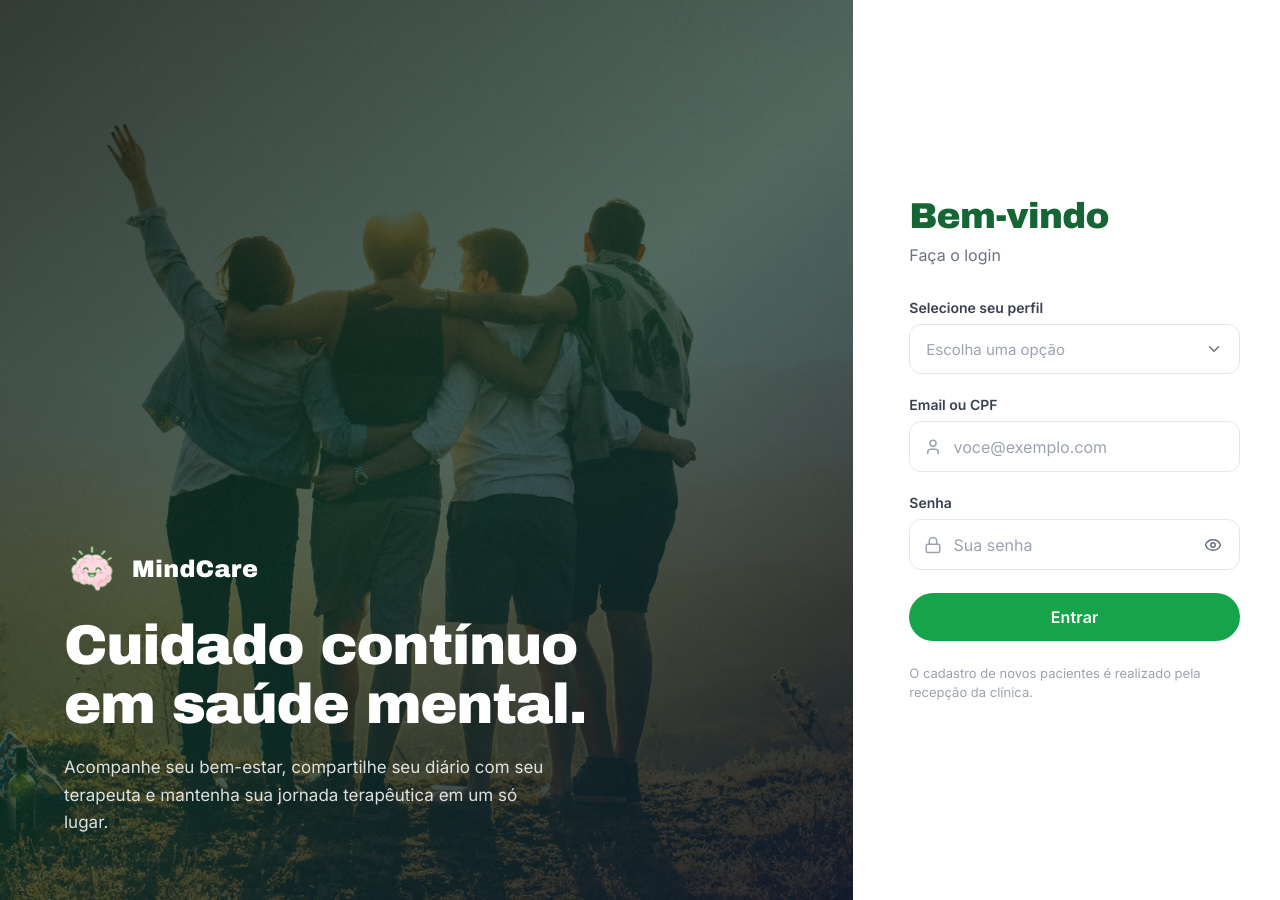
Test: Tela de Login › informa credenciais invalidas
Step 1. Click the button "Escolha uma opção" → (996,349), box [909, 324, 1240, 374]
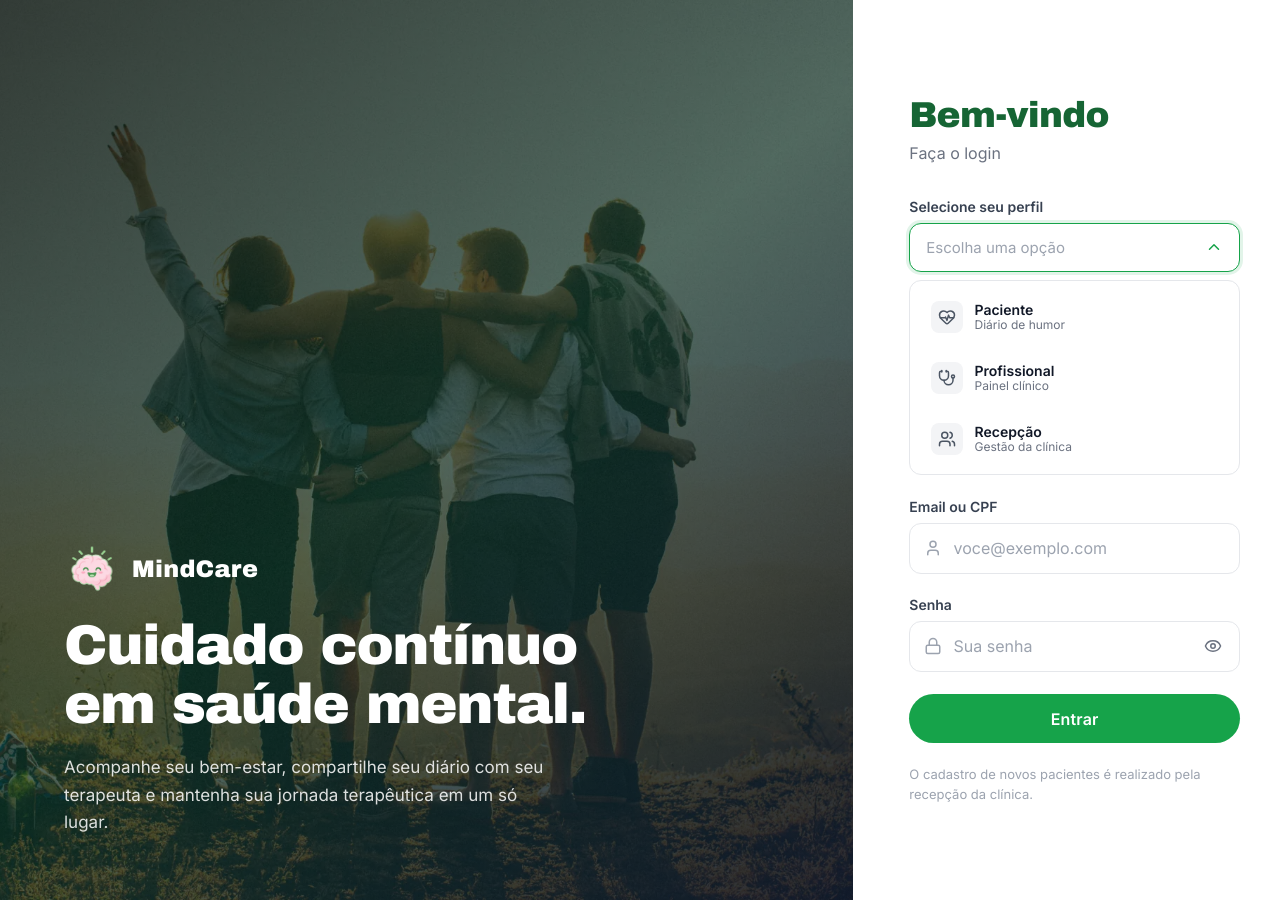
Step 2. Click the option "Paciente Diário de humor" → (947,317), box [918, 289, 1231, 344]
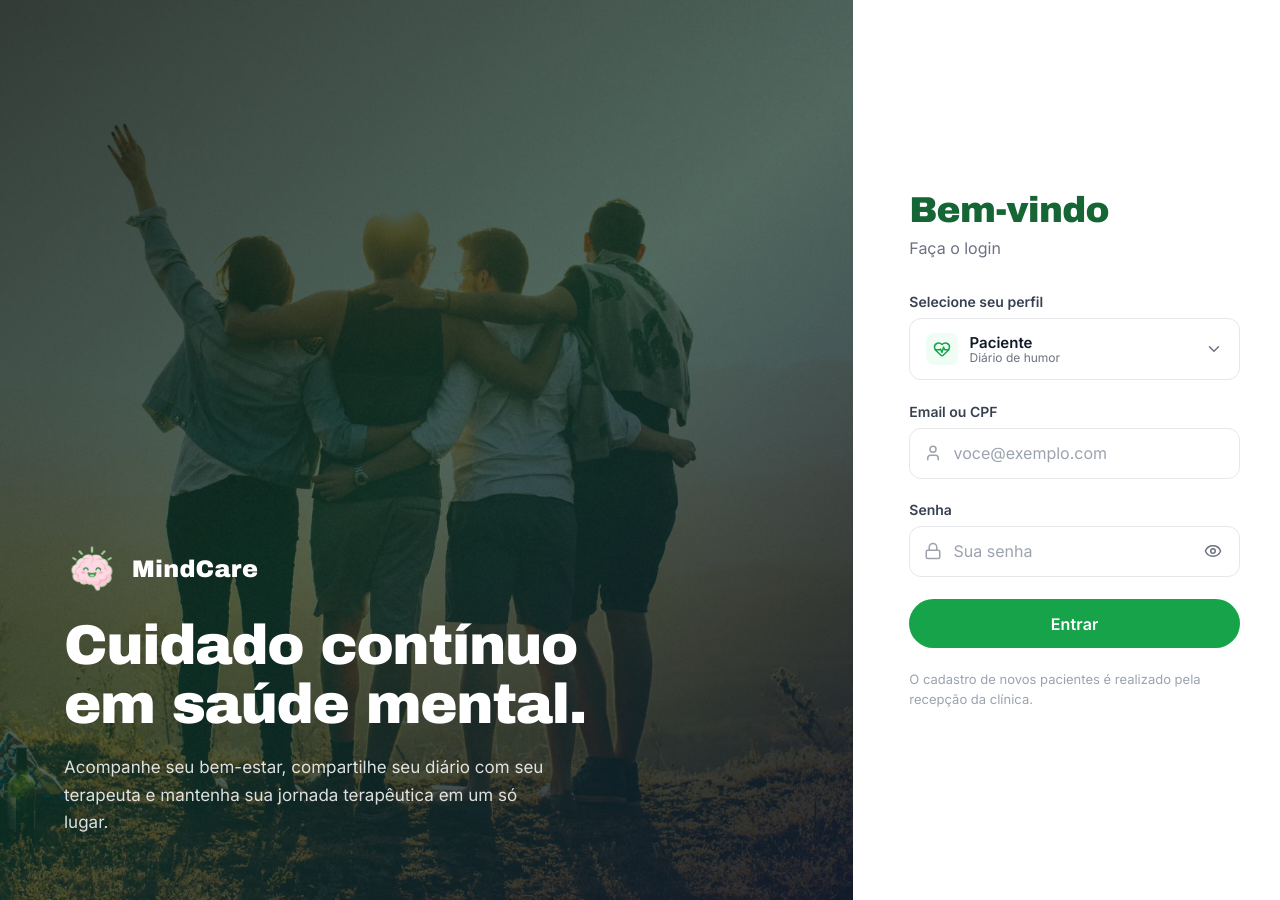
Step 3. Type "usuario@teste.com" into the field labelled "Email ou CPF" → (1075,453), box [909, 428, 1240, 479]
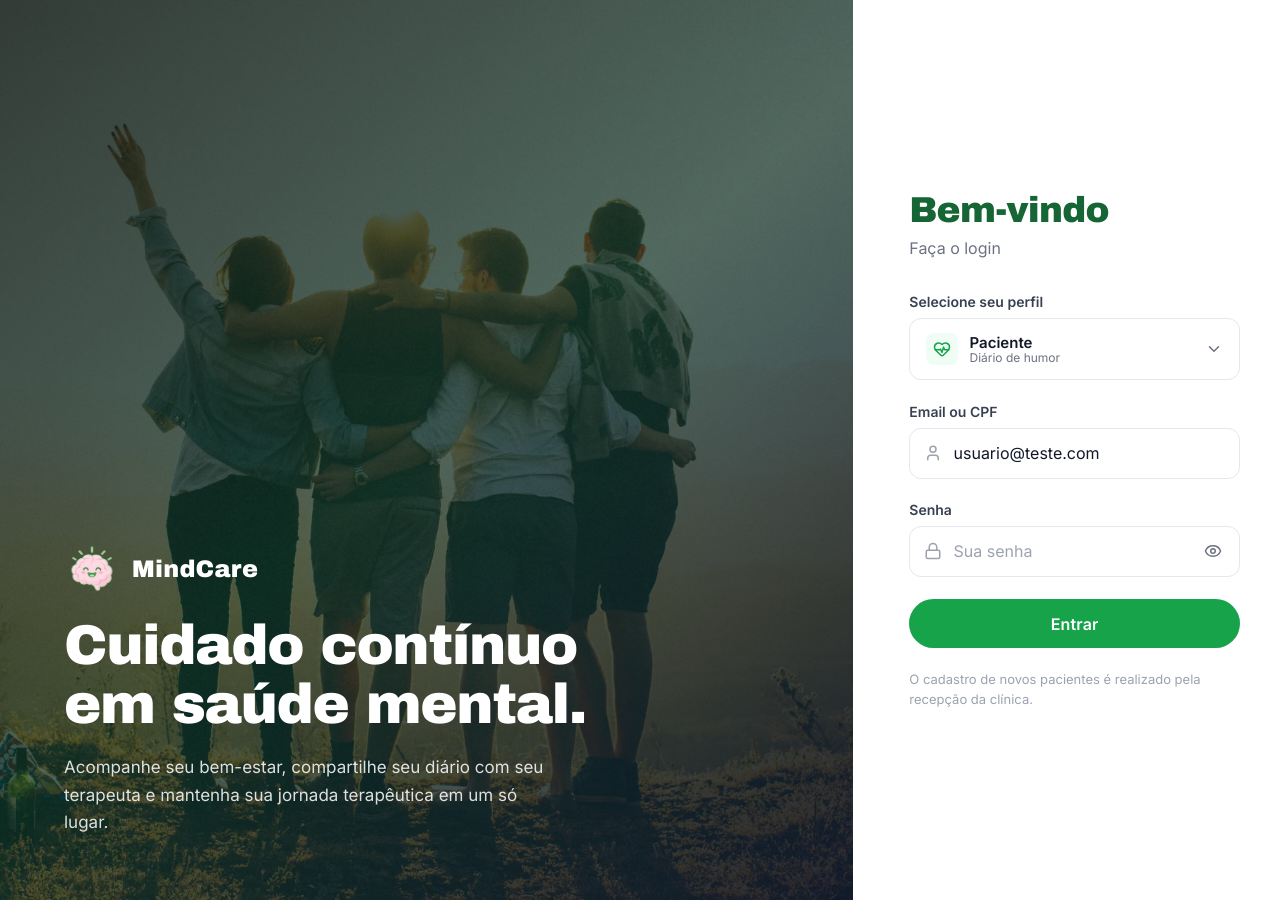
Step 4. Type "senhaTeste" into the password field labelled "Senha" → (1075,551), box [909, 526, 1240, 577]
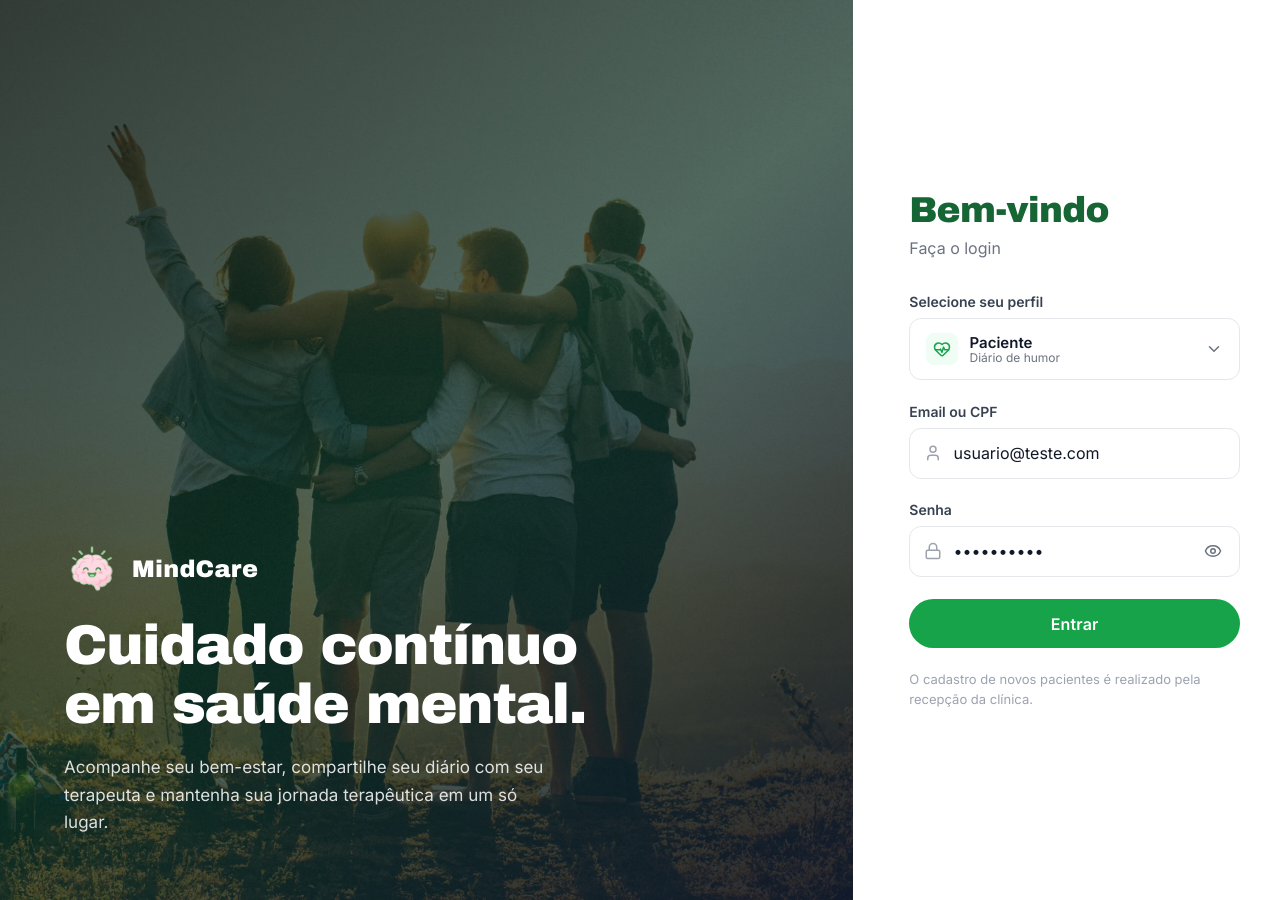
Step 5. Click the button "Entrar" → (1075,624), box [909, 599, 1240, 648]
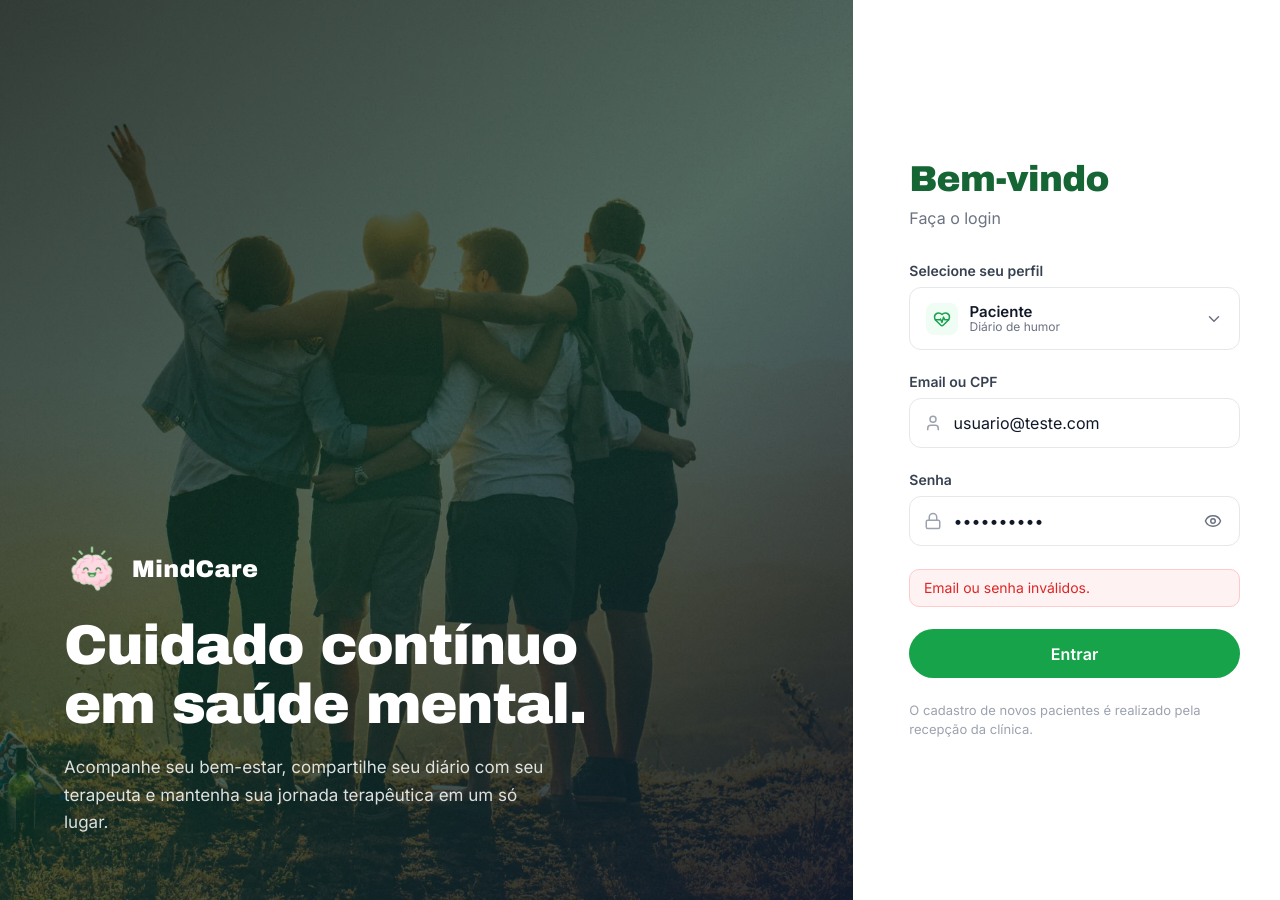
Now the text "Email ou senha inválidos." is shown, box [909, 569, 1240, 607]
